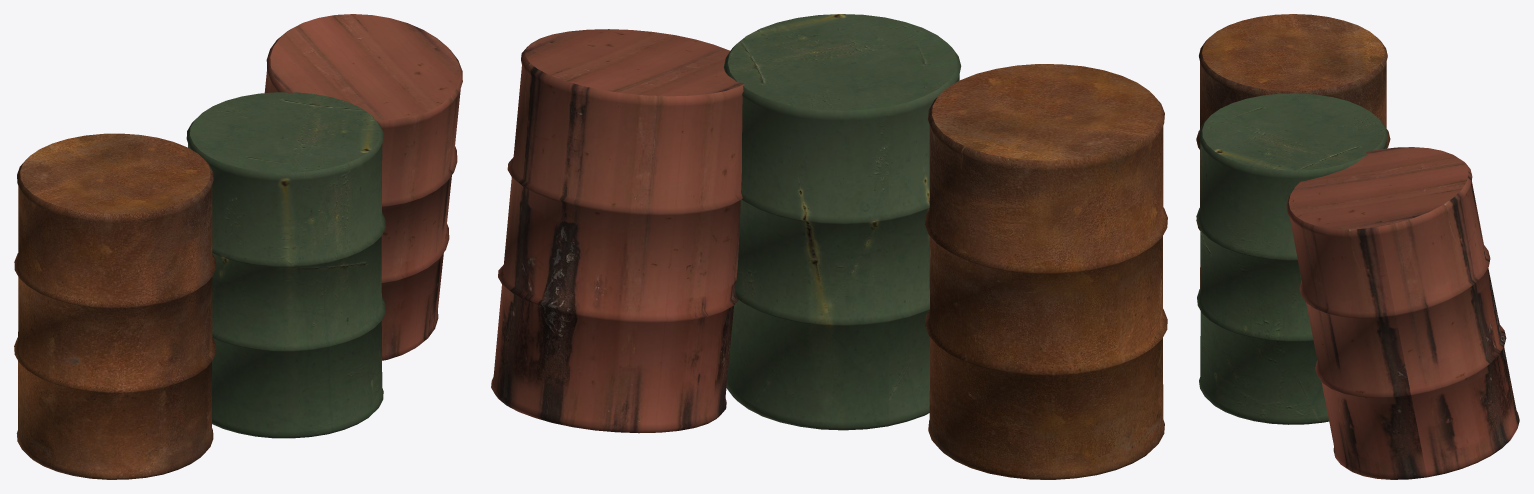
Rendered from varil_sirasi.gltf.
3 renders of one model, left to right at view 1: azimuth 30°, elevation 25°; view 2: azimuth 150°, elevation 25°; view 3: azimuth 270°, elevation 25°, orthographic. The views are drawn at different scales.
Visible parts, largest first — view 1: varil_sirasi; view 2: varil_sirasi; view 3: varil_sirasi.
Part boxes in pixels (x1=…): varil_sirasi: x1=14, y1=14, x2=462, y2=479; varil_sirasi: x1=491, y1=14, x2=1167, y2=479; varil_sirasi: x1=1196, y1=14, x2=1519, y2=479.
Size of what is drawn, in the model's own units: 1.63 by 0.9661 by 1.01.
3 materials, 3 textured.
